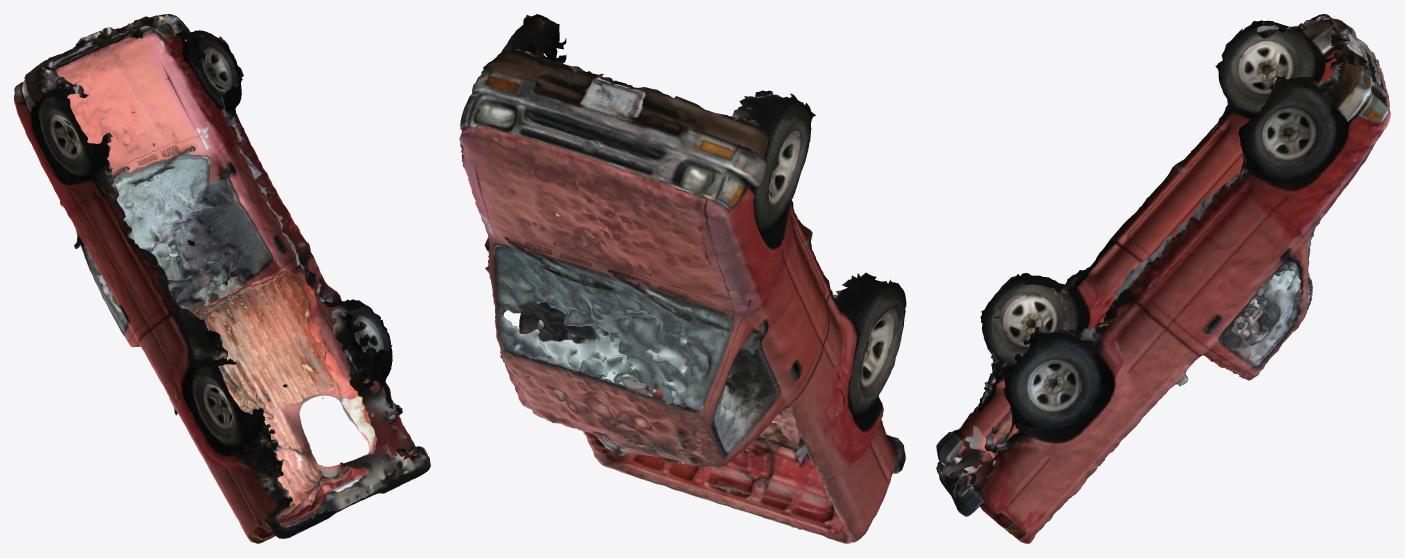
File: pickup3.obj
3 renders of one model, left to right at view 1: azimuth 30°, elevation 25°; view 2: azimuth 150°, elevation 25°; view 3: azimuth 270°, elevation 25°, orthographic. The views are drawn at different scales.
Size of the model in its own units: 1.23 by 1.97 by 1.79.
Materials: 1 (1 with a texture image).
